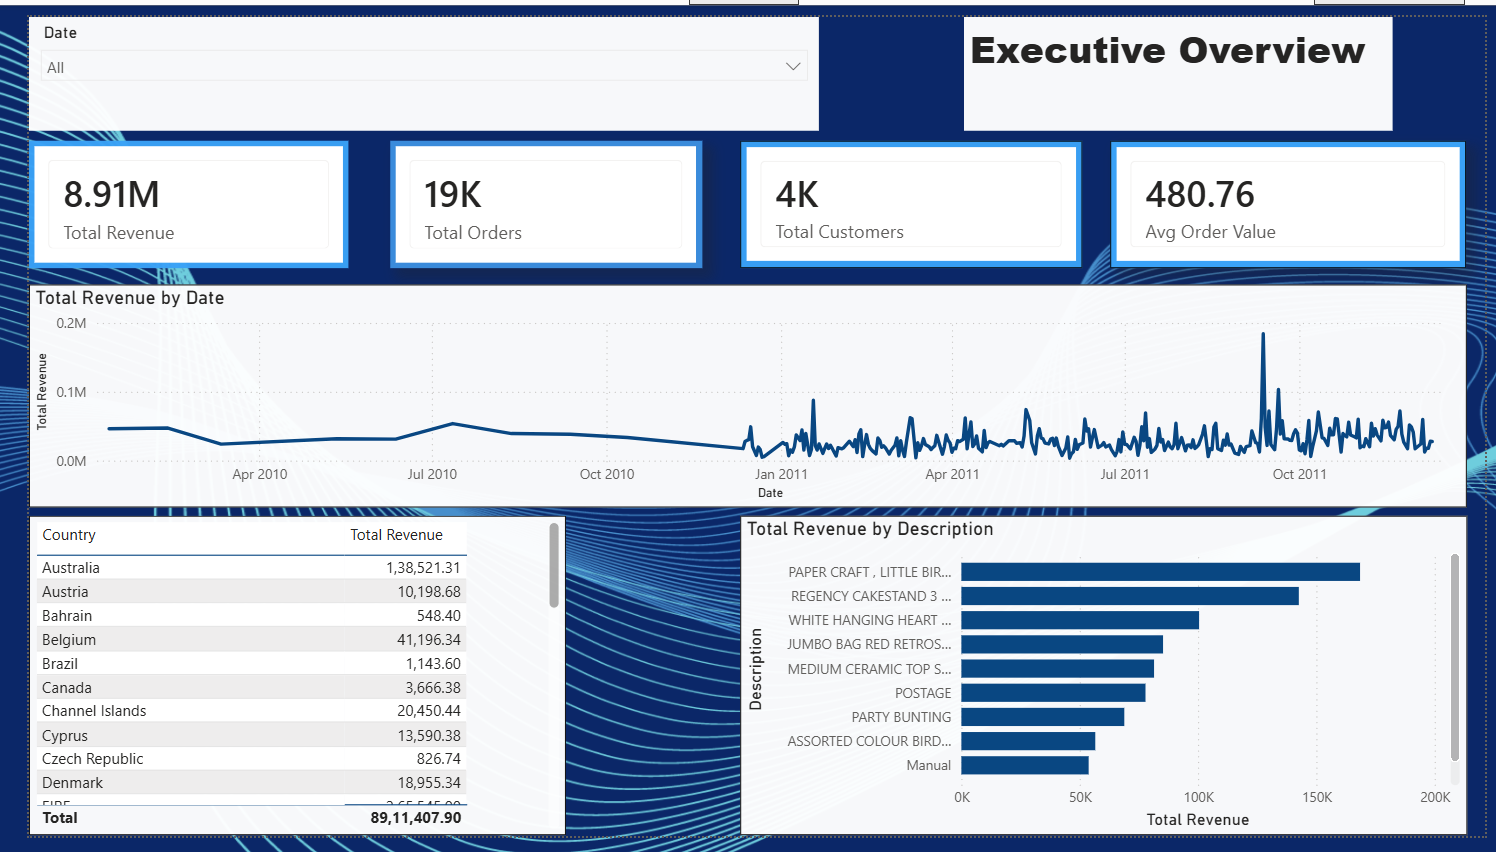

Layout of this report page (visuals, bound fields, positions):
{"tool":"powerbi","page":{"name":"Executive Overview","canvas":[1280,720],"ordinal":0},"visuals":[{"type":"cardVisual","fields":{"Data":["_Measure.Total Revenue"]},"box":[0,109,281,112],"z":0},{"type":"cardVisual","fields":{"Data":["_Measure.Total Orders"]},"box":[318,109,274,112],"z":1000},{"type":"cardVisual","fields":{"Data":["_Measure.Total Customers"]},"box":[625,109,301,112],"z":2000},{"type":"cardVisual","fields":{"Data":["_Measure.Avg Order Value"]},"box":[951,109,313,112],"z":3000},{"type":"lineChart","fields":{"Y":["_Measure.Total Revenue"],"Category":["DateTable.Date"]},"box":[0,235,1264,196],"z":4000},{"type":"clusteredBarChart","fields":{"Category":["ecommerce_cleaned.Description"],"Y":["_Measure.Total Revenue"]},"box":[625.6,438.9,638.9,281.1],"z":5000},{"type":"slicer","fields":{"Values":["DateTable.Date"]},"box":[0,0,694.5,100],"z":6000},{"type":"tableEx","fields":{"Values":["ecommerce_cleaned.Country","_Measure.Total Revenue"]},"box":[0,438.9,472.2,281.1],"z":7000},{"type":"textbox","box":[822,0,376.9,100],"z":8000}]}

Visuals, with their boxes in screenshot pixels (x1, y1, x2, y2), scaled from the page's 1280x720 canvas onto the 1496x852 screenshot:
cardVisual - _Measure.Total Revenue: locate(0, 129, 328, 262)
cardVisual - _Measure.Total Orders: locate(372, 129, 692, 262)
cardVisual - _Measure.Total Customers: locate(730, 129, 1082, 262)
cardVisual - _Measure.Avg Order Value: locate(1111, 129, 1477, 262)
lineChart - _Measure.Total Revenue x DateTable.Date: locate(0, 278, 1477, 510)
clusteredBarChart - ecommerce_cleaned.Description x _Measure.Total Revenue: locate(731, 519, 1478, 851)
slicer - DateTable.Date: locate(0, 0, 812, 118)
tableEx - ecommerce_cleaned.Country x _Measure.Total Revenue: locate(0, 519, 552, 851)
textbox: locate(961, 0, 1401, 118)
